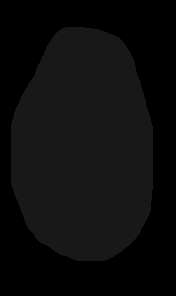fp: (6, 14, 157, 265)
